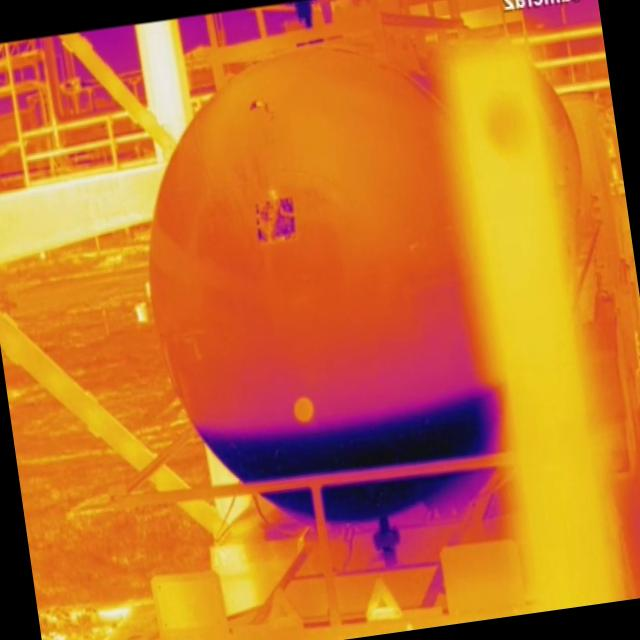tank: (120, 31, 510, 546)
